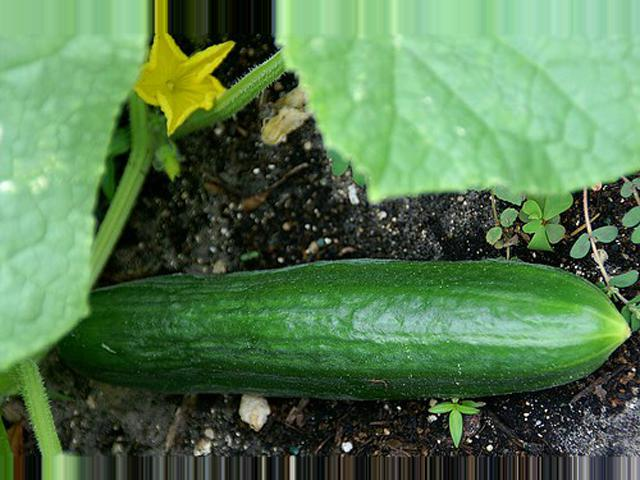cucumber: (56, 258, 632, 400)
